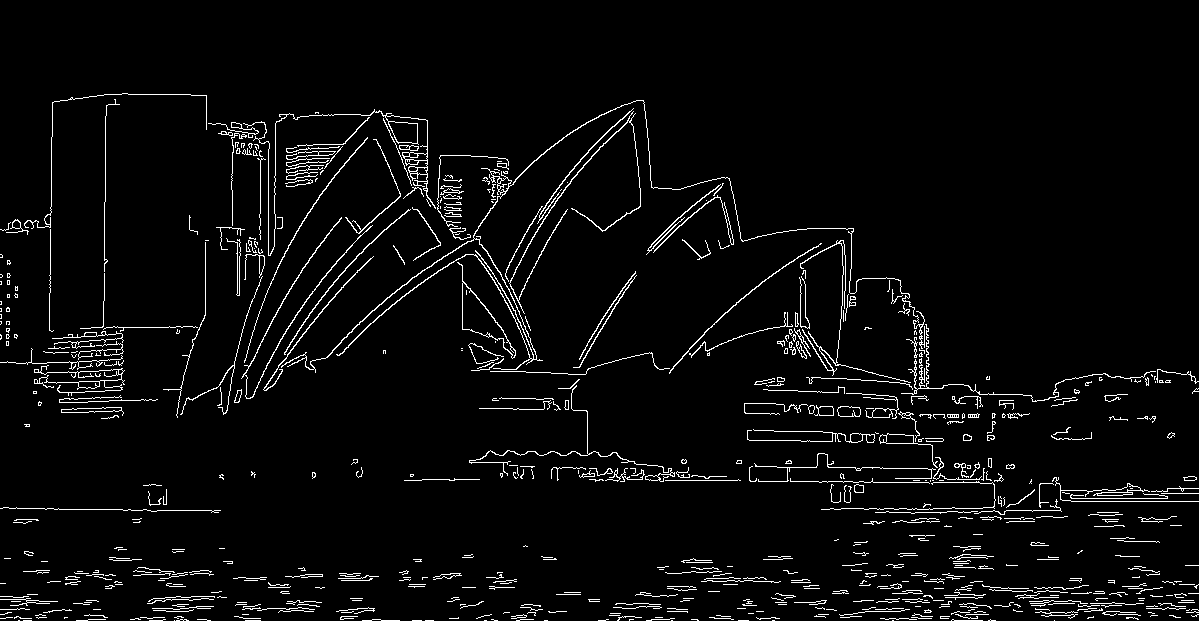opera house: (154, 73, 955, 462)
